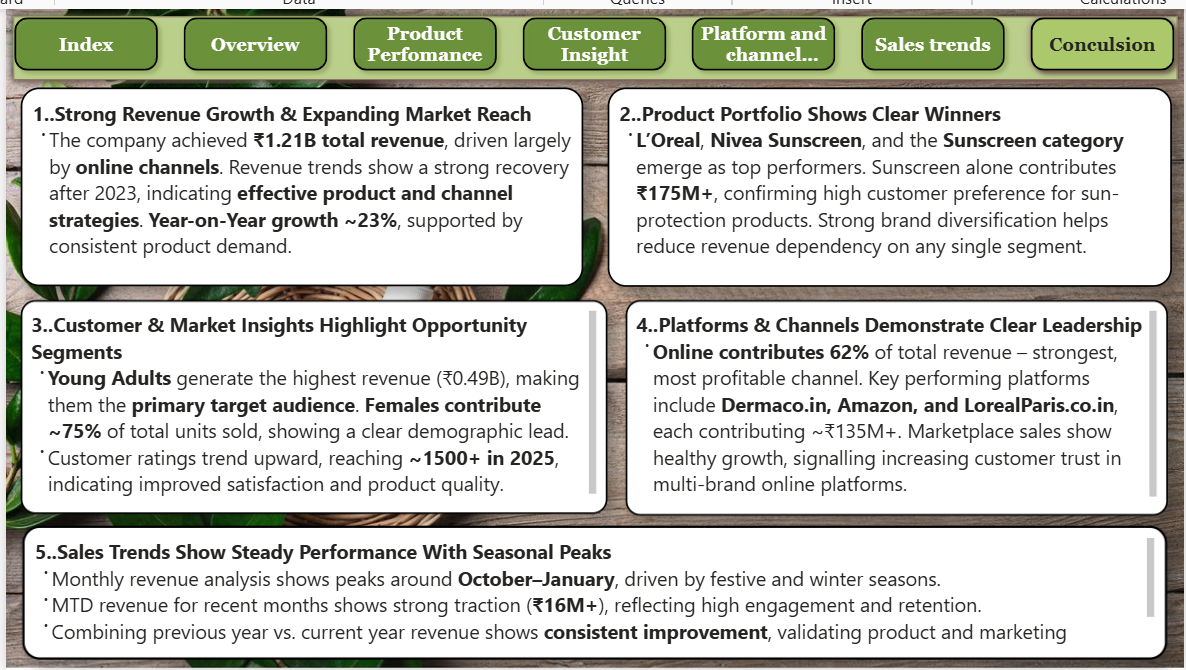

The page's visual inventory and layout, read from the dashboard file:
{"tool":"powerbi","page":{"name":"Conculsion","canvas":[1280,720],"ordinal":6},"visuals":[{"type":"shape","box":[0,0,1280.4,85],"z":0},{"type":"pageNavigator","box":[0,0,1280.4,76.4],"z":1000},{"type":"textbox","box":[16.4,85.5,611,216],"z":2000},{"type":"textbox","box":[653.5,85.2,612.7,216.7],"z":3000},{"type":"textbox","box":[16,316.1,637.5,232.6],"z":4000},{"type":"textbox","box":[672.7,316.4,589.1,234],"z":5000},{"type":"textbox","box":[18.2,561.8,1243.6,145.5],"z":6000}]}

Visuals, with their boxes in screenshot pixels (x1, y1, x2, y2):
shape: <region>6, 6, 1176, 84</region>
pageNavigator: <region>6, 6, 1176, 76</region>
textbox: <region>21, 84, 579, 282</region>
textbox: <region>603, 84, 1163, 282</region>
textbox: <region>21, 295, 603, 508</region>
textbox: <region>621, 295, 1159, 509</region>
textbox: <region>23, 520, 1159, 652</region>
